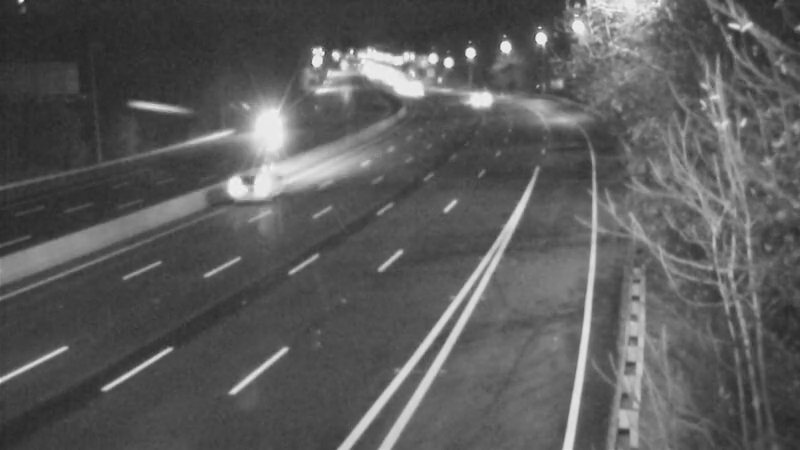vehicle: (212, 146, 292, 226), (451, 73, 501, 123), (243, 94, 293, 144)
